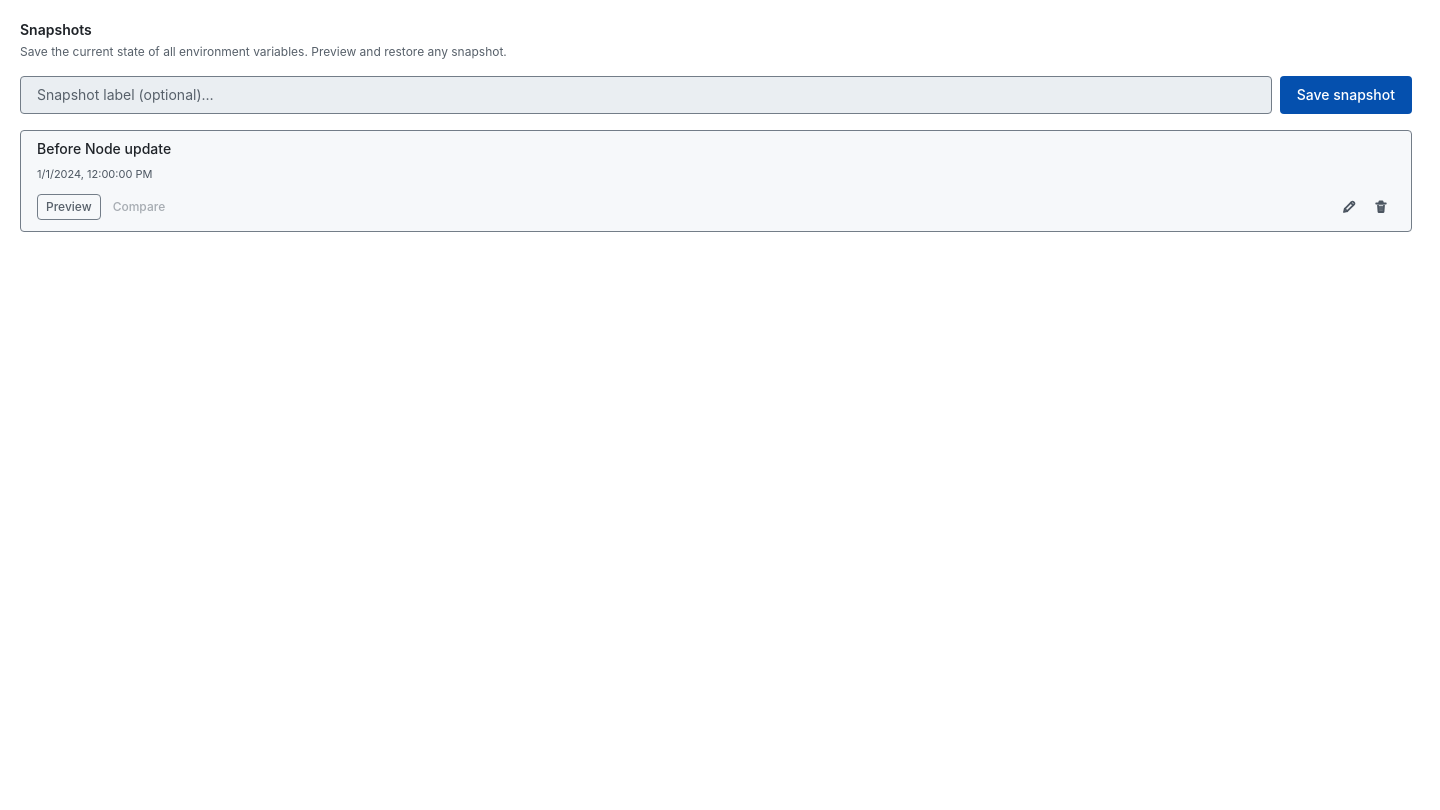
Scenario: SnapshotPanel › Preview button shows diff against current state
Expected: the text "Before Node update" is shown, x1=37 y1=140 x2=171 y2=157
Step 1. Click the button "Preview" → click(69, 207), box x1=37 y1=194 x2=101 y2=220
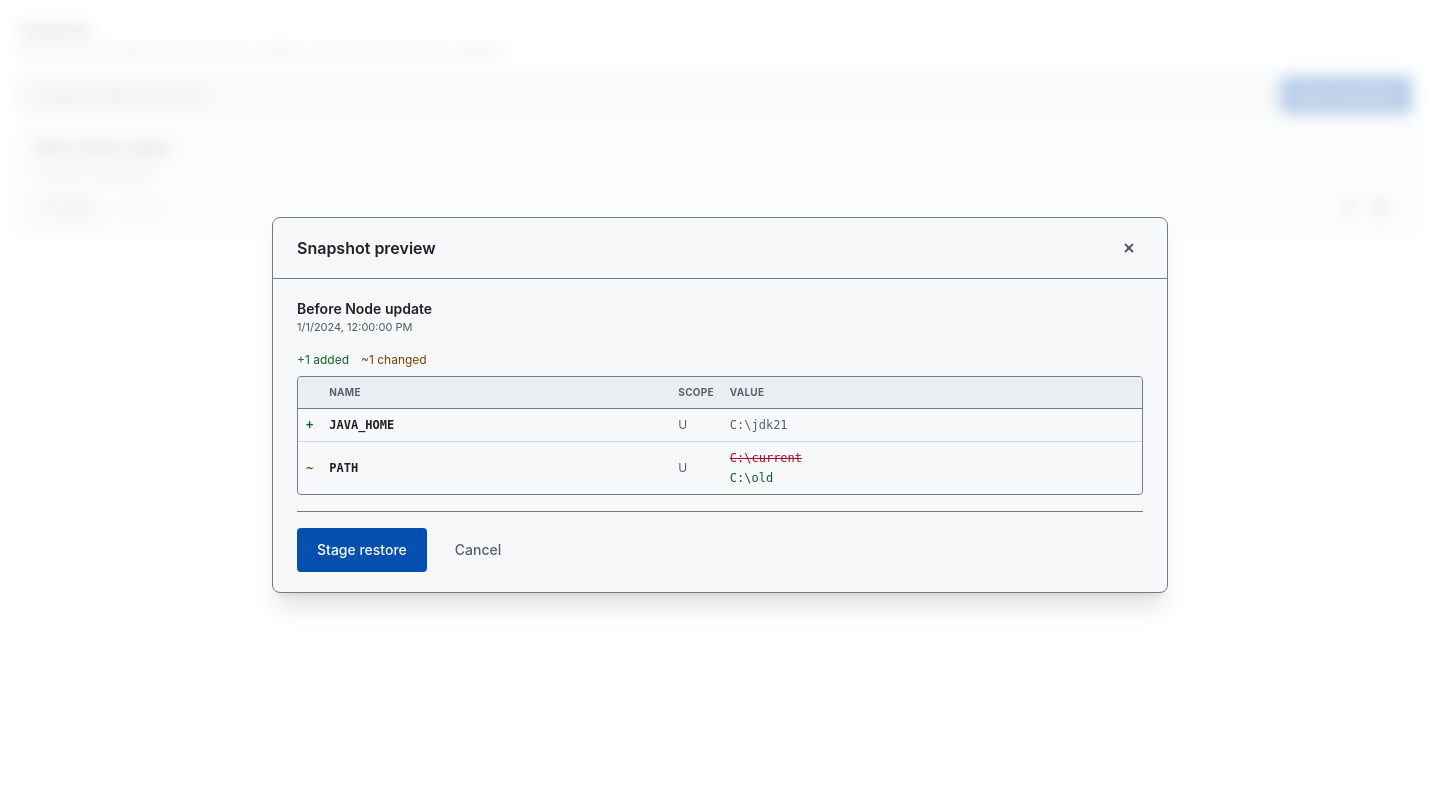
Expected: the text "JAVA_HOME" is shown, x1=329 y1=418 x2=394 y2=432
Expected: the text "PATH" is shown, x1=329 y1=461 x2=358 y2=475
